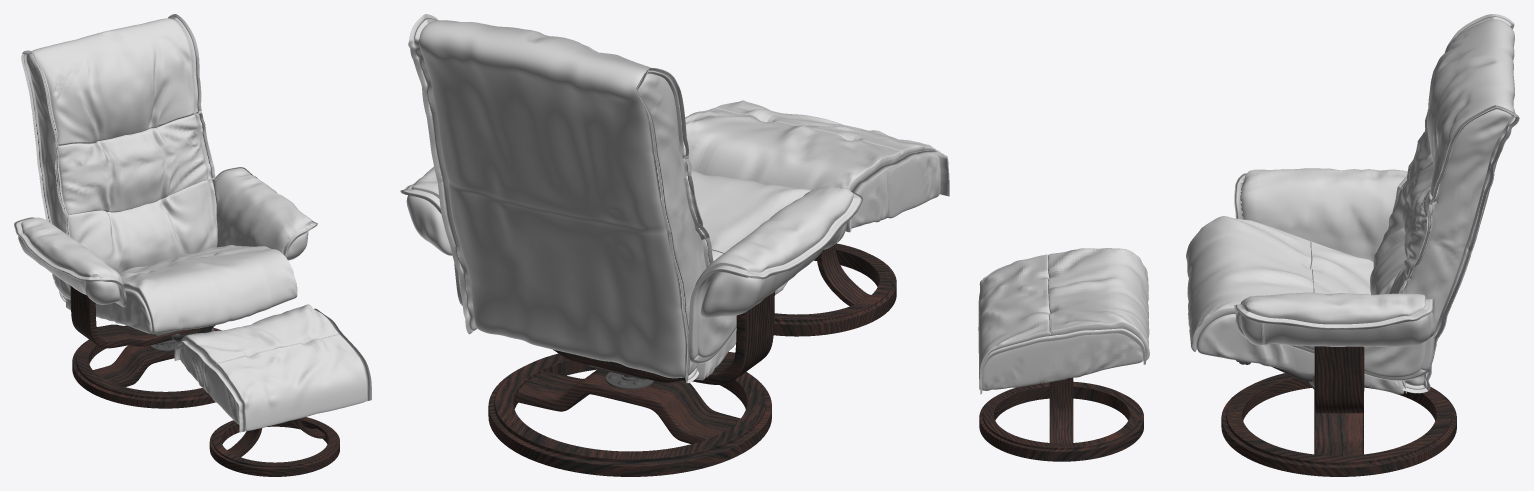
Rendered from SBH_TABY.glb.
3 renders of one model, left to right at view 1: azimuth 30°, elevation 25°; view 2: azimuth 150°, elevation 25°; view 3: azimuth 270°, elevation 25°, orthographic. The views are drawn at different scales.
Visible parts, largest first — view 1: TABY; view 2: TABY; view 3: TABY.
Boxes of the visible parts, bbox=[...] form: TABY: bbox=[14, 14, 371, 476]; TABY: bbox=[400, 14, 949, 476]; TABY: bbox=[978, 14, 1519, 476].
Bounding box in the file's own units: 0.9233 × 1.06 × 1.41.
3 materials, 1 textured.
